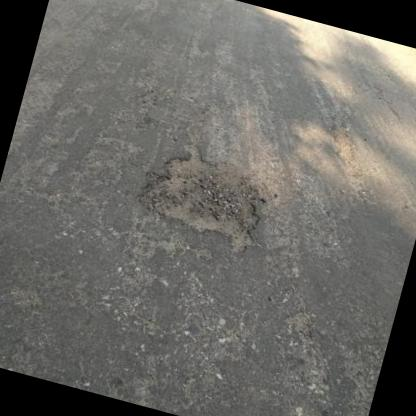pothole: (124, 133, 280, 257), (277, 304, 318, 339)
